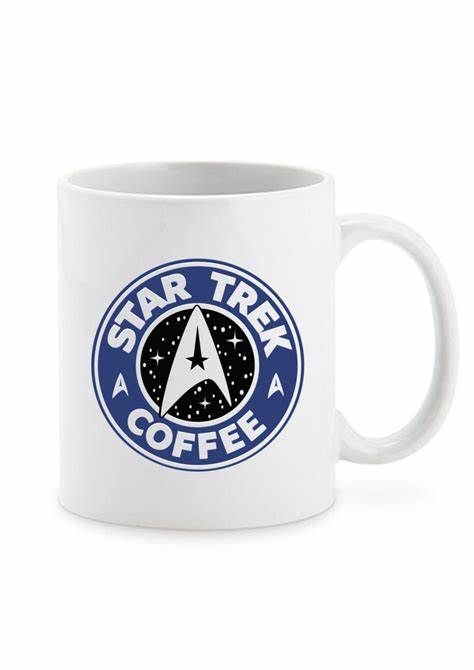starbucks Fake: (88, 256, 308, 474)
